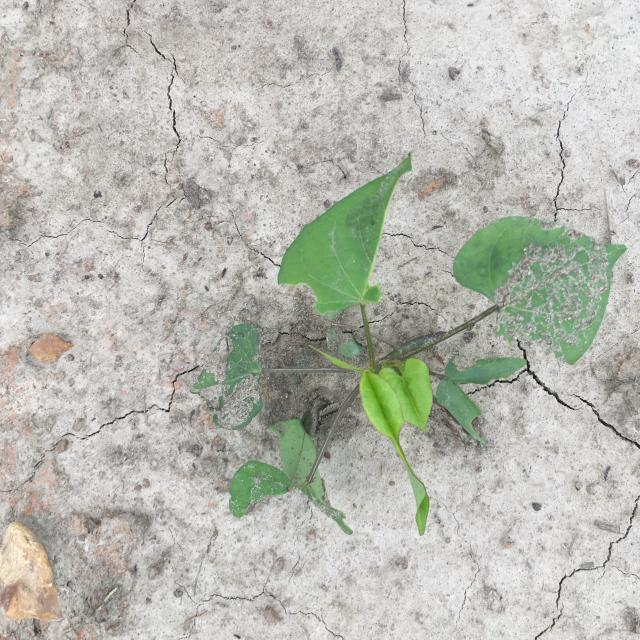MorningGlory: (191, 152, 628, 535)
